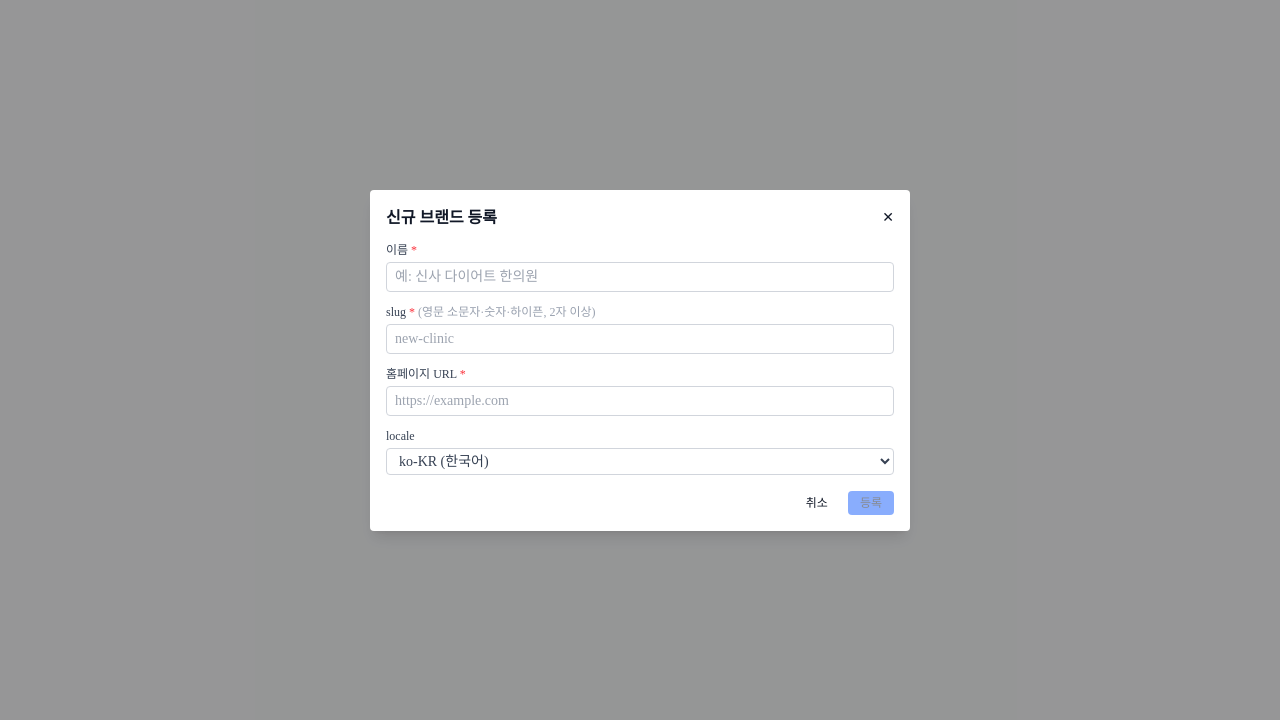
Test: BrandRegisterDialog › 잘못된 slug 형식 → 에러 메시지 표시
Step 1. Type "BAD SLUG" into the field labelled "slug * (영문 소문자·숫자·하이픈, 2자 이상)" → (640, 338), box [386, 324, 894, 354]
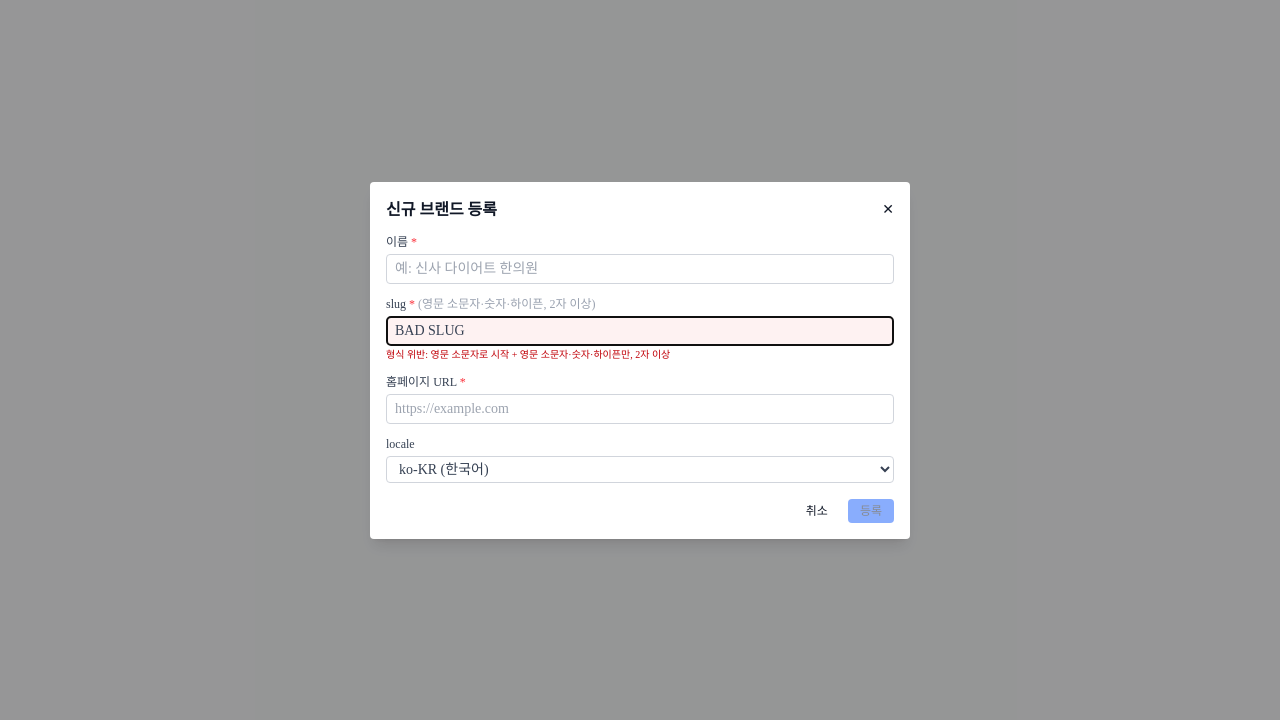
Expected: the text "형식 위반: 영문 소문자로 시작 + 영문 소문자·숫자·하이픈만, 2자 이상" is shown, [386, 348, 670, 360]
